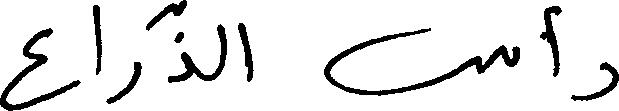X: (324, 23, 518, 100), (0, 23, 78, 110), (572, 57, 618, 105), (168, 0, 191, 87), (108, 57, 140, 108), (543, 1, 558, 81), (237, 18, 252, 86), (92, 0, 100, 79), (218, 19, 226, 80)
